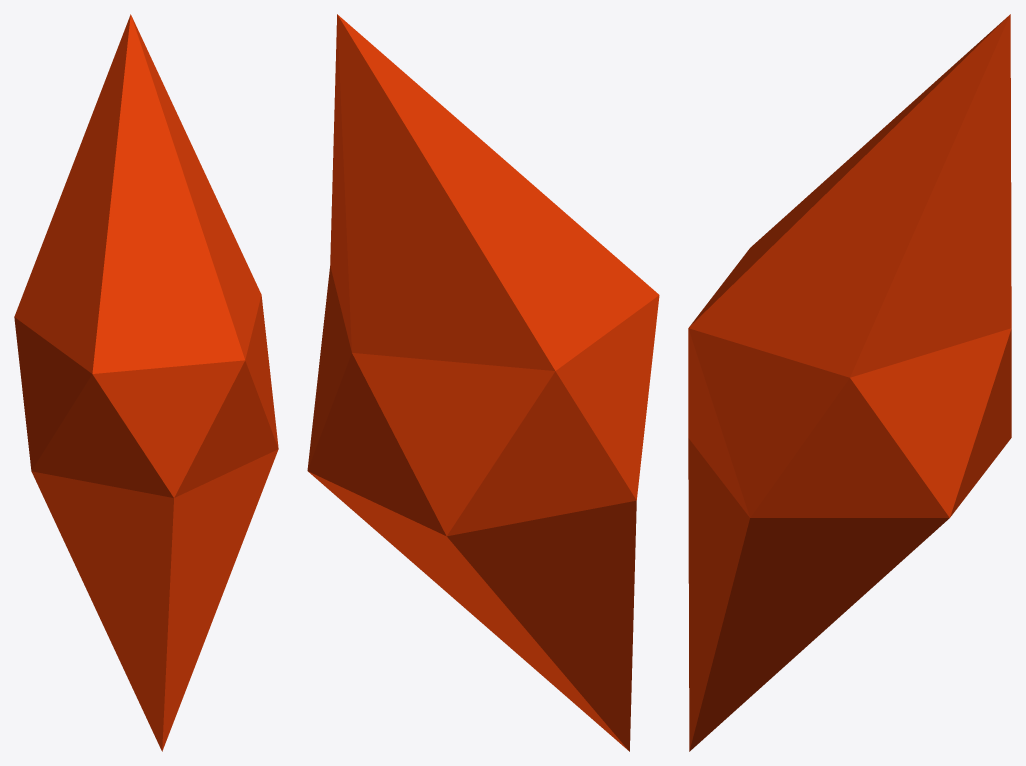
File: krysztal.fbx
3 renders of one model, left to right at view 1: azimuth 30°, elevation 25°; view 2: azimuth 150°, elevation 25°; view 3: azimuth 270°, elevation 25°, orthographic. The views are drawn at different scales.
Visible parts, largest first — view 1: Kula ico; view 2: Kula ico; view 3: Kula ico.
Boxes of the visible parts, x1=… form: Kula ico: x1=14, y1=14, x2=278, y2=751; Kula ico: x1=307, y1=14, x2=659, y2=751; Kula ico: x1=688, y1=14, x2=1011, y2=751.
Bounding box in the file's own units: 179 × 463 × 170.
